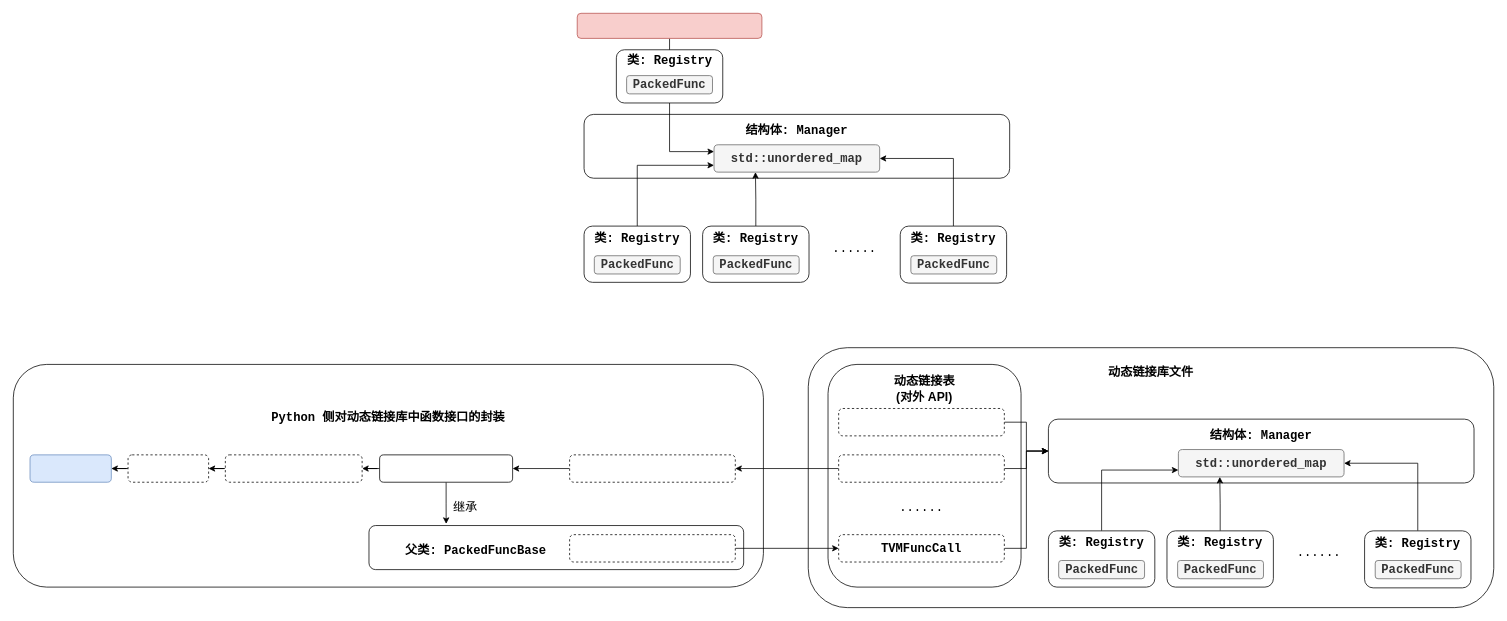
Some shapes in this 1507 by 621 pixel diagram are drawn without their labels. Each missing label, with the centre of its shape:
"__call__" goes at (x=652, y=548).
"_get_global_func" goes at (x=652, y=468).
"_init_api" goes at (x=168, y=468).
"_init_api_prefix" goes at (x=293, y=468).
"Python 模块" goes at (x=70, y=468).
"TVMFuncGetGlobal" goes at (x=921, y=468).
"TVMFuncListGlobalNames" goes at (x=921, y=422).
"宏: TVM_REGISTER_GLOBAL" goes at (x=669, y=25).
"类: PackedFunc" goes at (x=446, y=468).
